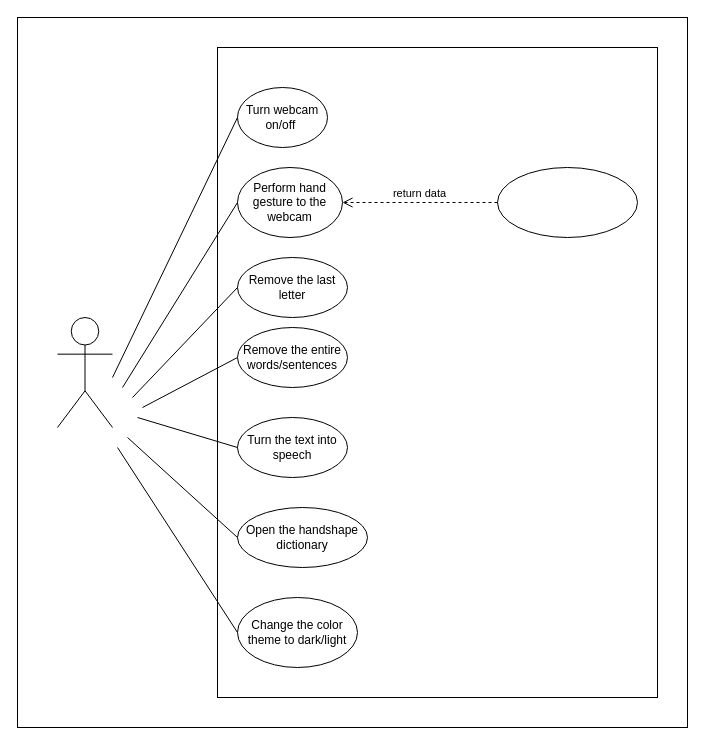
Some shapes in this 705 by 745 pixel diagram are drawn without their labels. Each missing label, with the box of its shape:
Actor: (56, 316, 112, 428)
MediaPipe Handpose Model and Fingerpose Algorithm: (496, 166, 638, 238)
